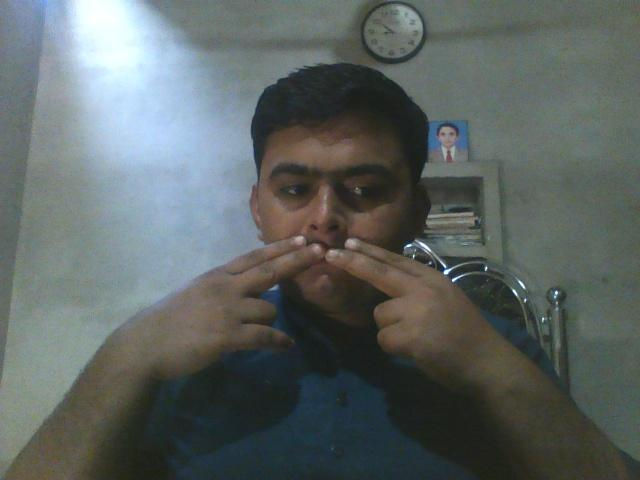Thanks: (195, 205, 418, 310)
